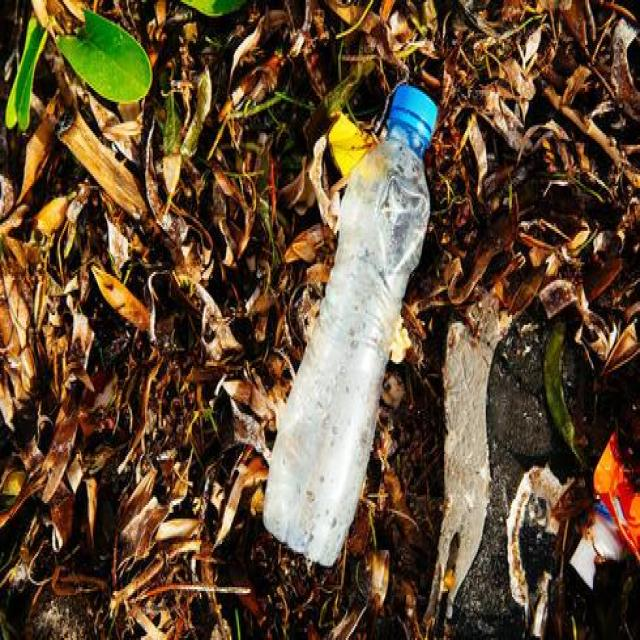bottle: (263, 84, 442, 562)
